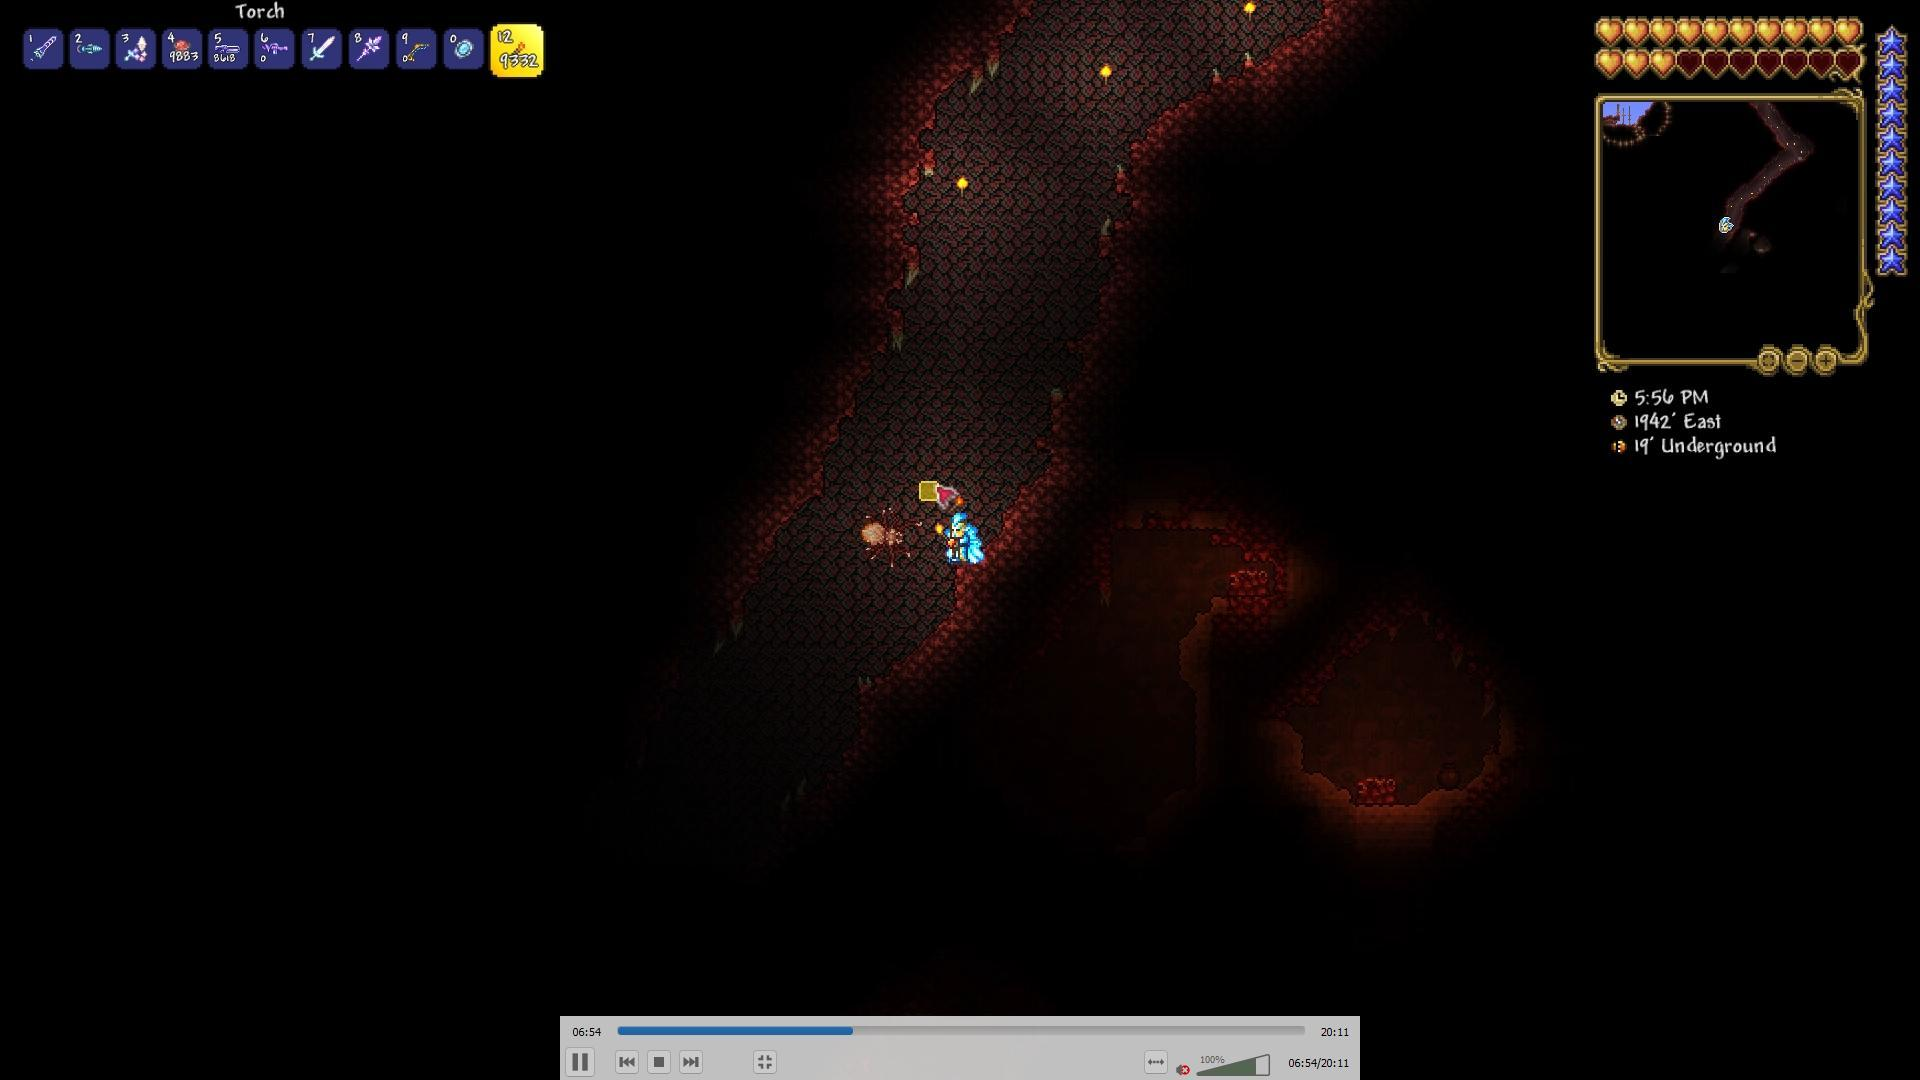altar: (1218, 560, 1273, 600), (1349, 770, 1404, 808)
crimstone: (1054, 394, 1108, 444), (1133, 115, 1187, 158), (769, 488, 814, 534), (1197, 71, 1253, 105), (1081, 343, 1122, 385), (1112, 225, 1143, 269), (884, 244, 922, 280), (891, 149, 931, 182), (990, 518, 1019, 562), (848, 351, 877, 394), (899, 99, 939, 131), (820, 421, 845, 469), (1121, 166, 1153, 203), (1047, 465, 1072, 500), (934, 615, 963, 644), (906, 644, 930, 678), (881, 219, 924, 237), (1104, 299, 1126, 335), (953, 571, 975, 599)
mirror: (450, 40, 476, 61)
spider: (857, 497, 926, 571)
